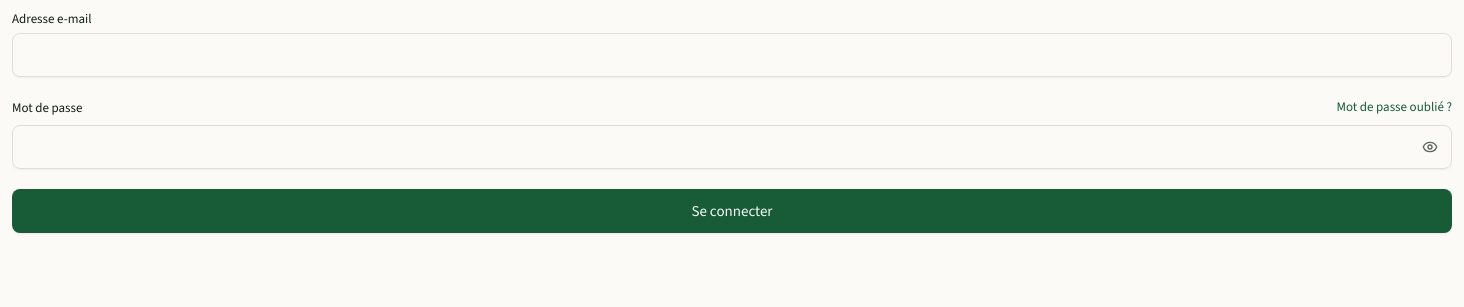
it: AgencyLoginForm › affiche un message clair sur identifiants refusés, sans rediriger
Type "agence@exemple.test" into the field labelled "Adresse e-mail".
click(732, 55); type("agence@exemple.test")  # box [12, 33, 1452, 77]
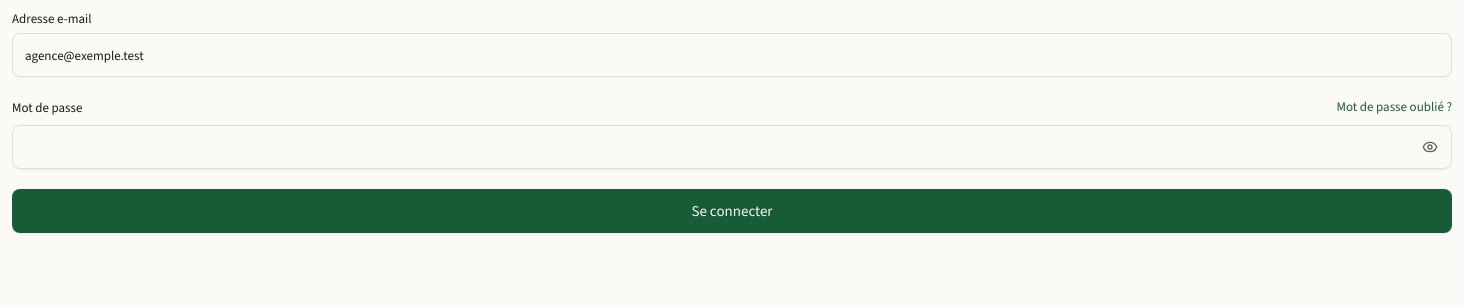
Type "mauvais-mot" into the password field labelled "Mot de passe".
click(732, 147); type("mauvais-mot")  # box [12, 125, 1452, 169]
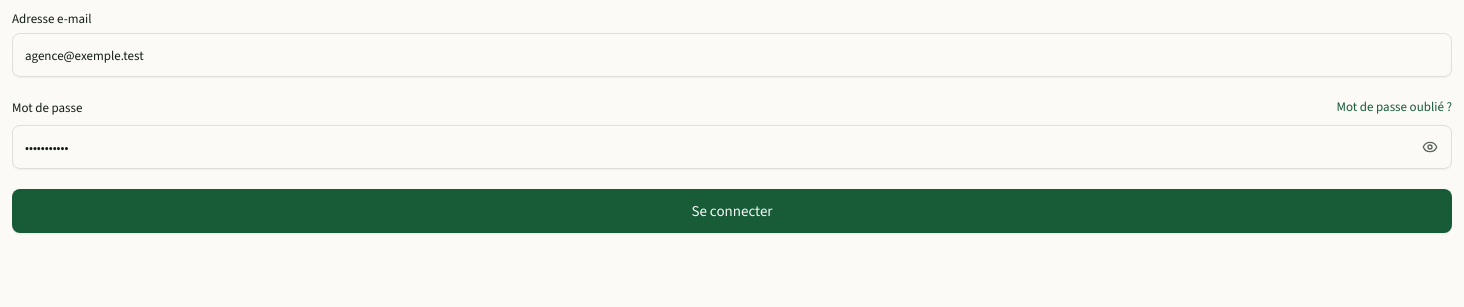
Click the button "Se connecter".
click(732, 211)  # box [12, 189, 1452, 233]
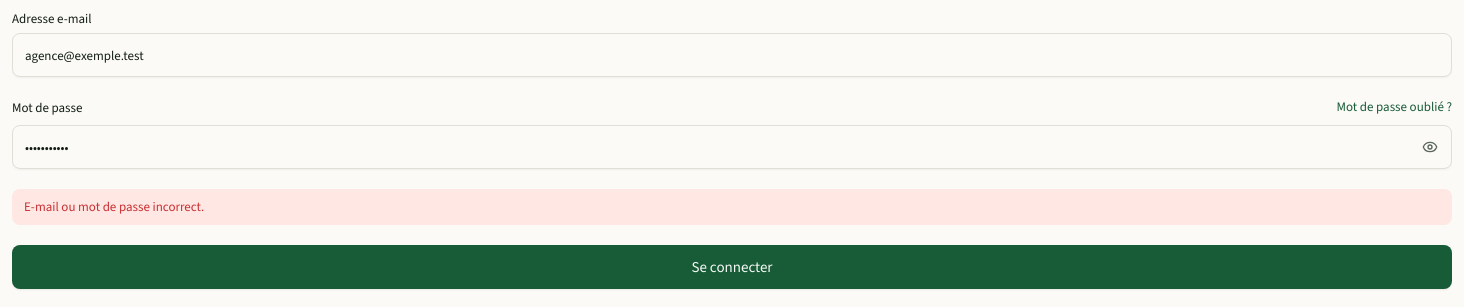
Now the text "E-mail ou mot de passe incorrect." is shown, box [12, 189, 1452, 225]
